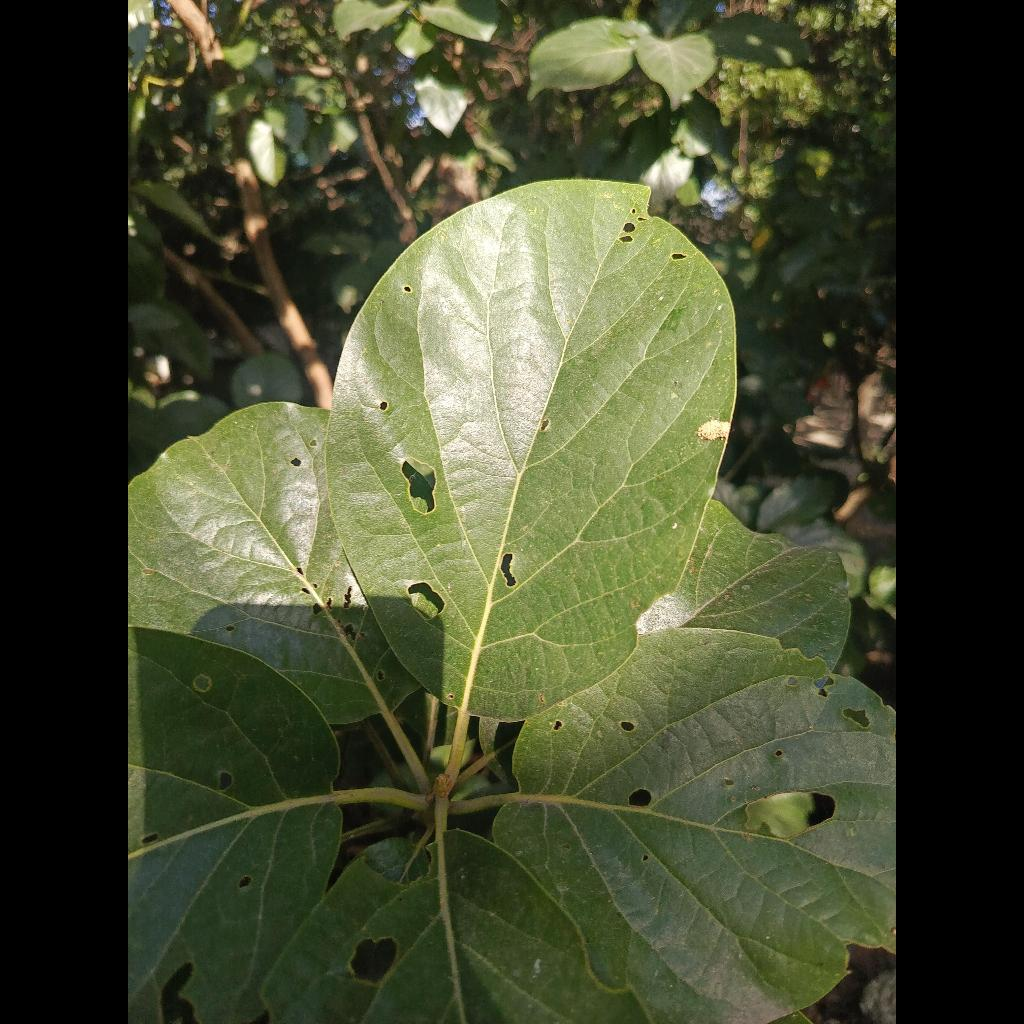plaga: (327, 181, 735, 733), (495, 628, 896, 1024)
